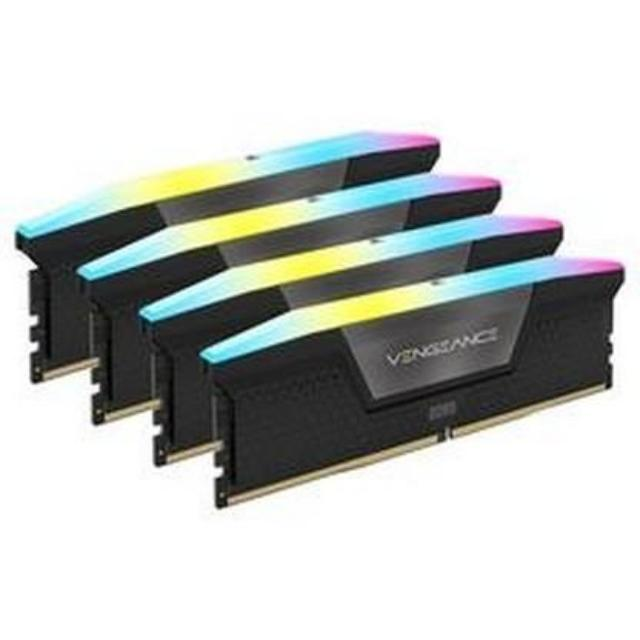RAM: (16, 126, 630, 503)
